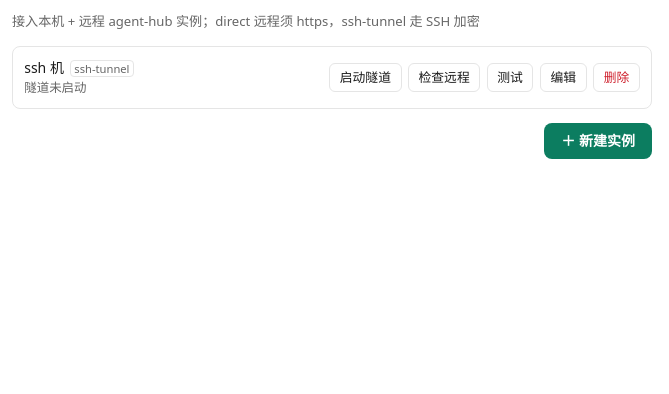
Test: D4 ssh-tunnel 一键安装 › 确认后执行：installExecute 带 confirm=true；成功后探活 + token 回填 + 实例转可用
Expected: the text "ssh 机" is shown, [24,58,64,77]
Step 1. Click the button "检查远程" → (444, 77), box [408,63,480,92]
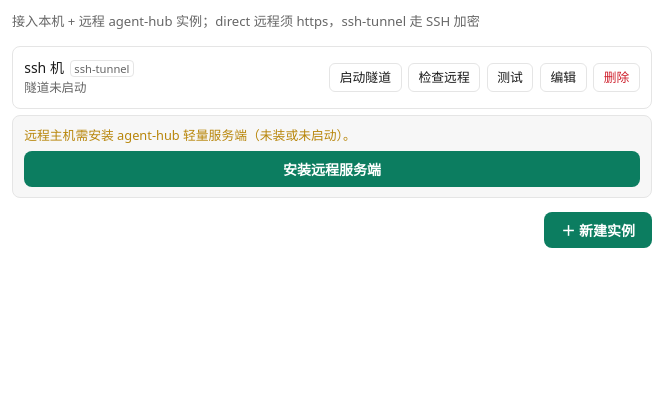
Step 2. Click the button "安装远程服务端" → (332, 169), box [24,151,640,187]
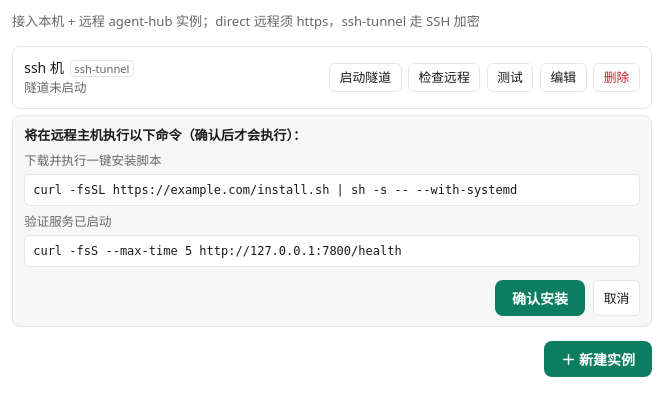
Step 3. Click the button "确认安装" → (540, 298), box [495,280,585,316]
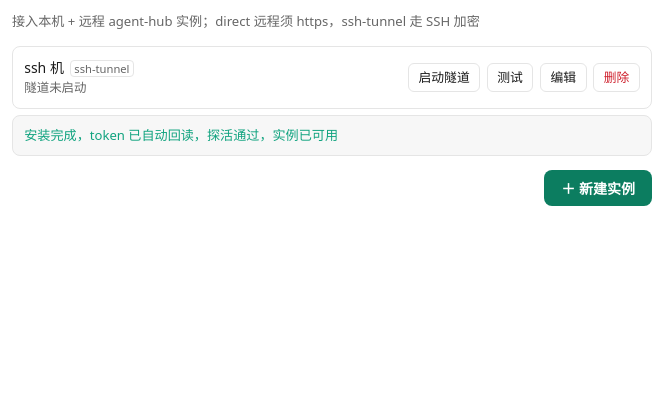
Expected: the text "安装完成，token 已自动回读，探活通过，实例已可用" is shown, [24,126,338,144]
